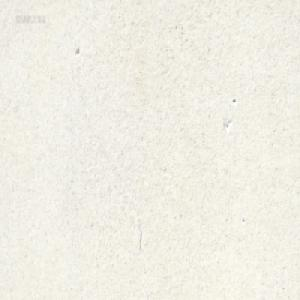Wrench: (143, 0, 149, 4)
